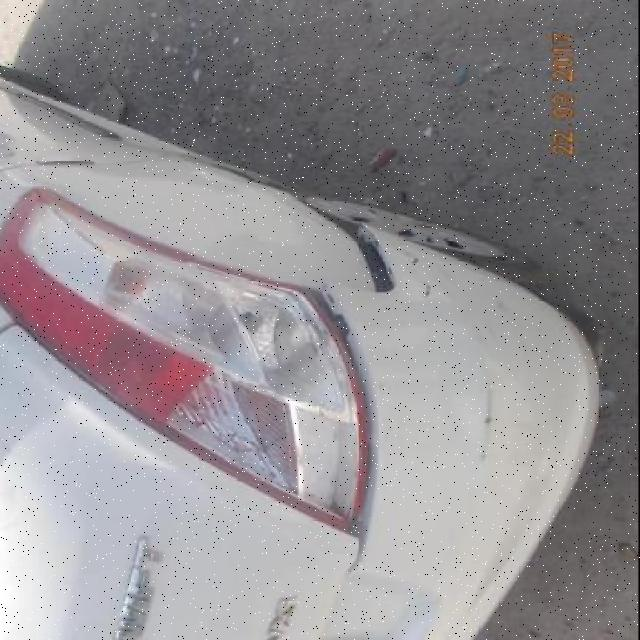damage: (310, 202, 402, 292)
